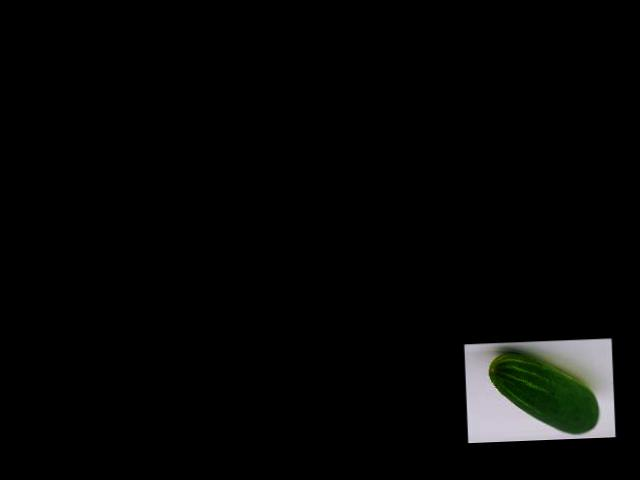cucumber: (488, 349, 600, 436)
